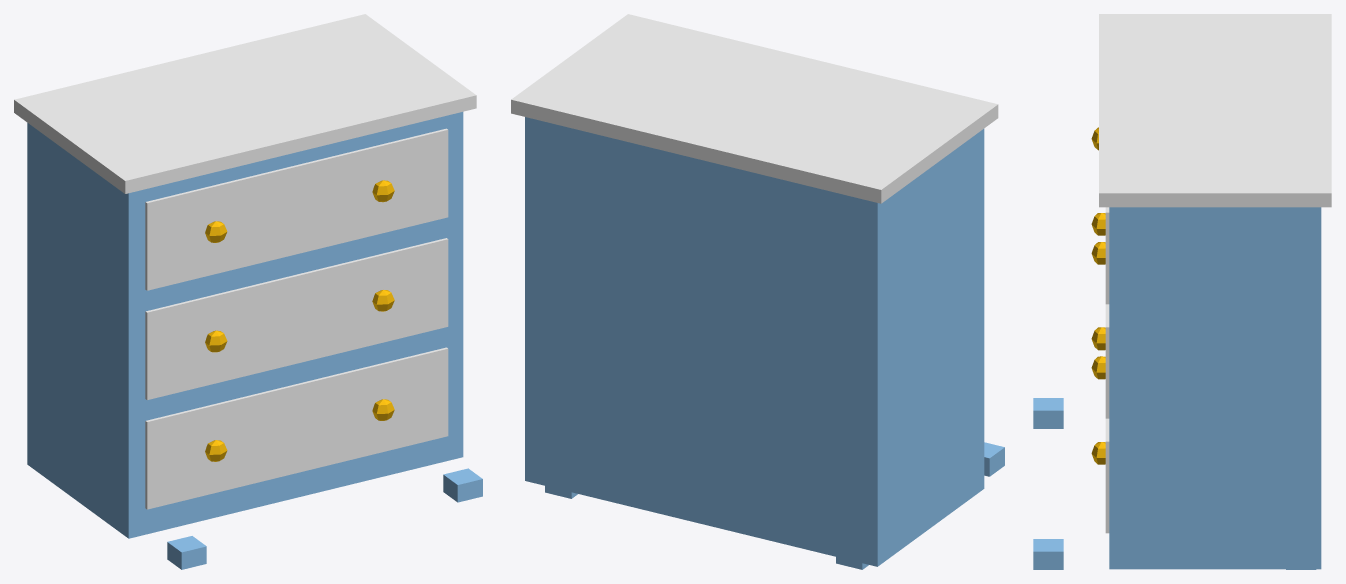
Rendered from byra.glb.
3 views of the same model, side by side, from view 1: azimuth 30°, elevation 25°; view 2: azimuth 150°, elevation 25°; view 3: azimuth 270°, elevation 25° (orthographic). The views are drawn at different scales.
Visible parts, largest first — view 1: byra; view 2: byra; view 3: byra.
Part boxes in pixels (x1,y1,x2,y2): byra: [14, 14, 482, 569]; byra: [511, 14, 1004, 569]; byra: [1033, 14, 1331, 569].
Bounding box in the file's own units: 0.84 × 0.85 × 0.59.
